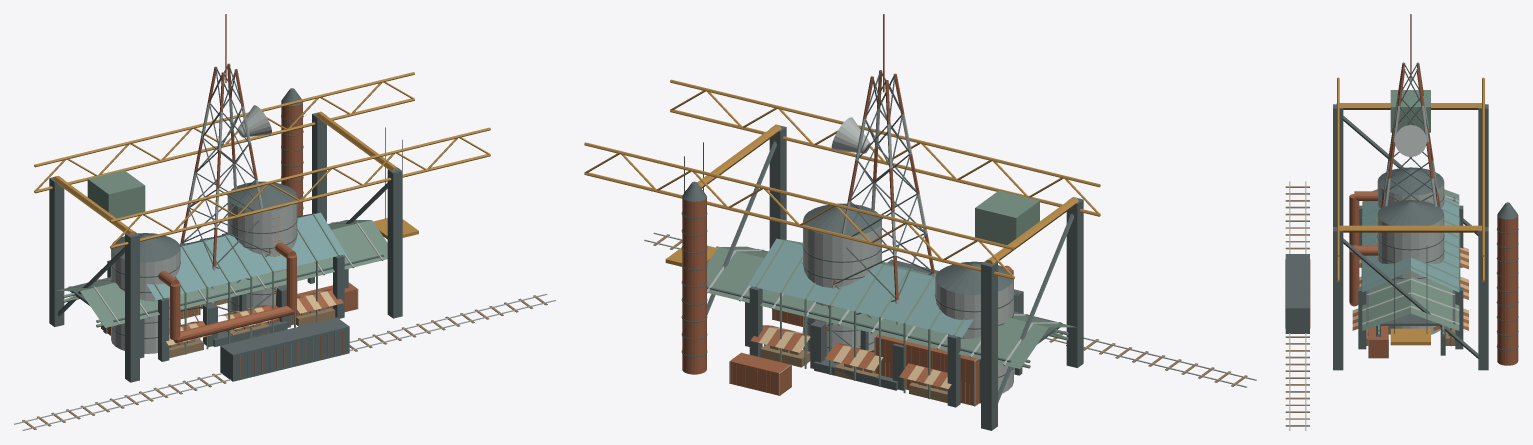
Rendered from districts.glb.
3 views of the same model, side by side, from view 1: azimuth 30°, elevation 25°; view 2: azimuth 150°, elevation 25°; view 3: azimuth 270°, elevation 25° (orthographic). The views are drawn at different scales.
Visible parts, largest first — view 1: port_ochre, port_steel, station_steel, station_green, garden_glass, foundry_zinc, foundry_oxide, relay_steel, foundry_steel, garden_steel, port_green, station_zinc (+9 smaller); view 2: port_ochre, port_steel, garden_glass, station_green, foundry_zinc, port_oxide, foundry_steel, foundry_oxide, relay_steel, garden_steel, port_green, garden_green (+8 smaller); view 3: port_steel, foundry_oxide, port_ochre, foundry_steel, station_green, garden_glass, foundry_zinc, station_steel, relay_zinc, station_zinc, station_timber, port_green (+7 smaller).
Part boxes in pixels (box(x1,y1,x2,y2)): port_ochre: box(34, 72, 490, 318); port_steel: box(49, 112, 402, 382); station_steel: box(67, 221, 383, 381); station_green: box(56, 220, 387, 327); garden_glass: box(146, 212, 345, 300); foundry_zinc: box(111, 197, 297, 353); foundry_oxide: box(158, 102, 302, 342); relay_steel: box(180, 64, 290, 347); foundry_steel: box(110, 88, 303, 338); garden_steel: box(107, 255, 344, 361); port_green: box(87, 170, 145, 218); station_zinc: box(14, 222, 555, 430); port_ochre: box(584, 79, 1100, 405); port_steel: box(684, 124, 1083, 430); garden_glass: box(748, 238, 1017, 337); station_green: box(707, 246, 1076, 368); foundry_zinc: box(803, 220, 1013, 393); port_oxide: box(730, 309, 979, 405); foundry_steel: box(681, 181, 1014, 377); foundry_oxide: box(682, 197, 1013, 374); relay_steel: box(810, 70, 933, 390); garden_steel: box(749, 286, 1017, 407); port_green: box(975, 190, 1039, 244); garden_green: box(755, 239, 964, 399); port_steel: box(1333, 104, 1488, 370); foundry_oxide: box(1349, 191, 1518, 365); port_ochre: box(1336, 77, 1484, 345); foundry_steel: box(1377, 167, 1518, 351); station_green: box(1362, 189, 1459, 336); garden_glass: box(1362, 197, 1459, 292); foundry_zinc: box(1377, 182, 1444, 334); station_steel: box(1285, 197, 1455, 355); relay_zinc: box(1383, 96, 1438, 206); station_zinc: box(1289, 181, 1459, 430); station_timber: box(1285, 186, 1309, 426); port_green: box(1390, 90, 1430, 132).
Bounding box in the file's own units: 73 × 40.06 × 28.89.
